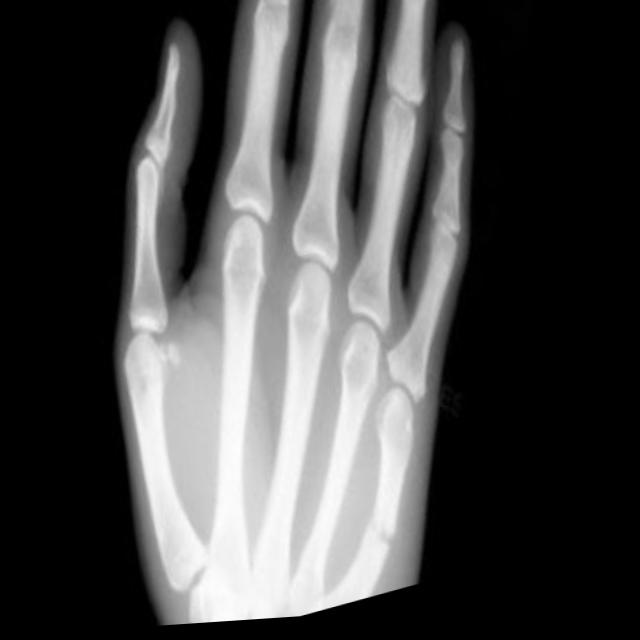fracture: (365, 504, 425, 586)
